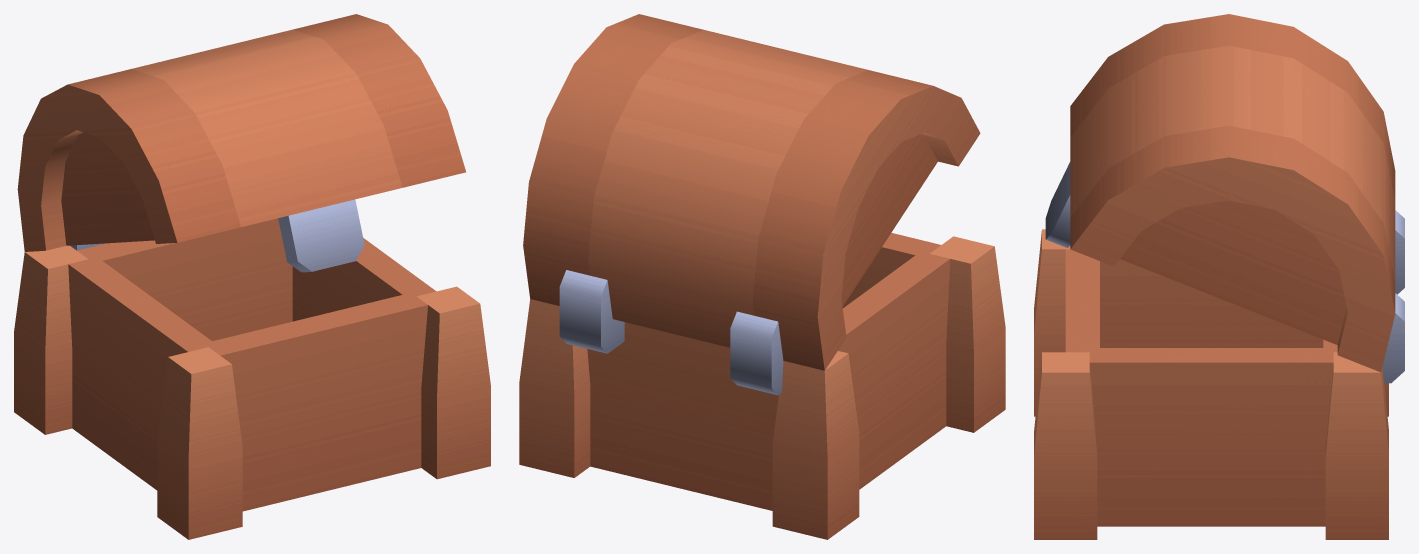
The model's file is control-library-chest.glb.
The picture shows the model from 3 angles, left to right: view 1: azimuth 30°, elevation 25°; view 2: azimuth 150°, elevation 25°; view 3: azimuth 270°, elevation 25°; orthographic projection.
Visible parts, largest first — view 1: control-library-chest runtime mesh; view 2: control-library-chest runtime mesh; view 3: control-library-chest runtime mesh.
Boxes of the visible parts, bbox=[...] form: control-library-chest runtime mesh: bbox=[14, 14, 490, 539]; control-library-chest runtime mesh: bbox=[519, 14, 1005, 539]; control-library-chest runtime mesh: bbox=[1034, 14, 1404, 539].
Size of the model in its own units: 0.6786 by 0.8 by 0.7089.
1 material, 1 textured.
